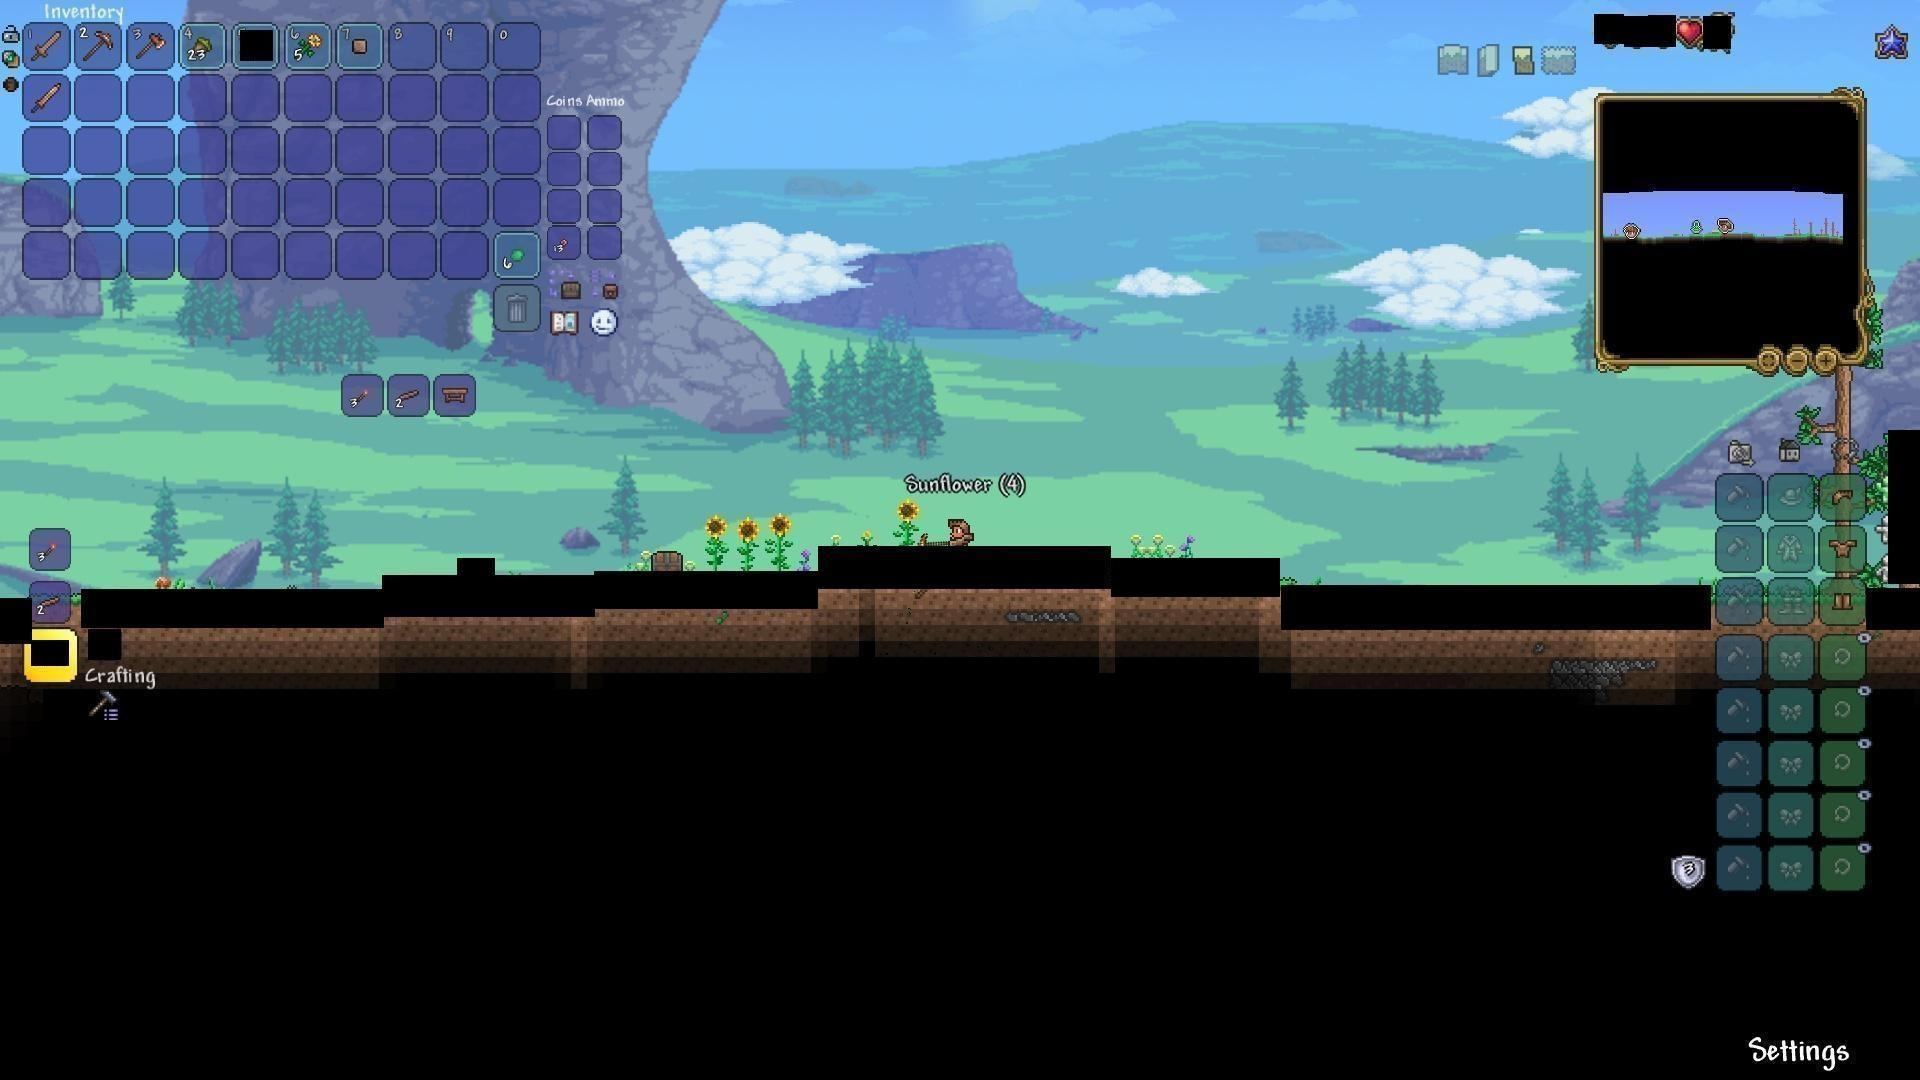breastplate: (1829, 537, 1857, 556)
heart: (1675, 16, 1704, 47)
helmet: (1826, 483, 1857, 510)
legs: (1832, 585, 1857, 615)
workbench: (436, 382, 473, 407)
